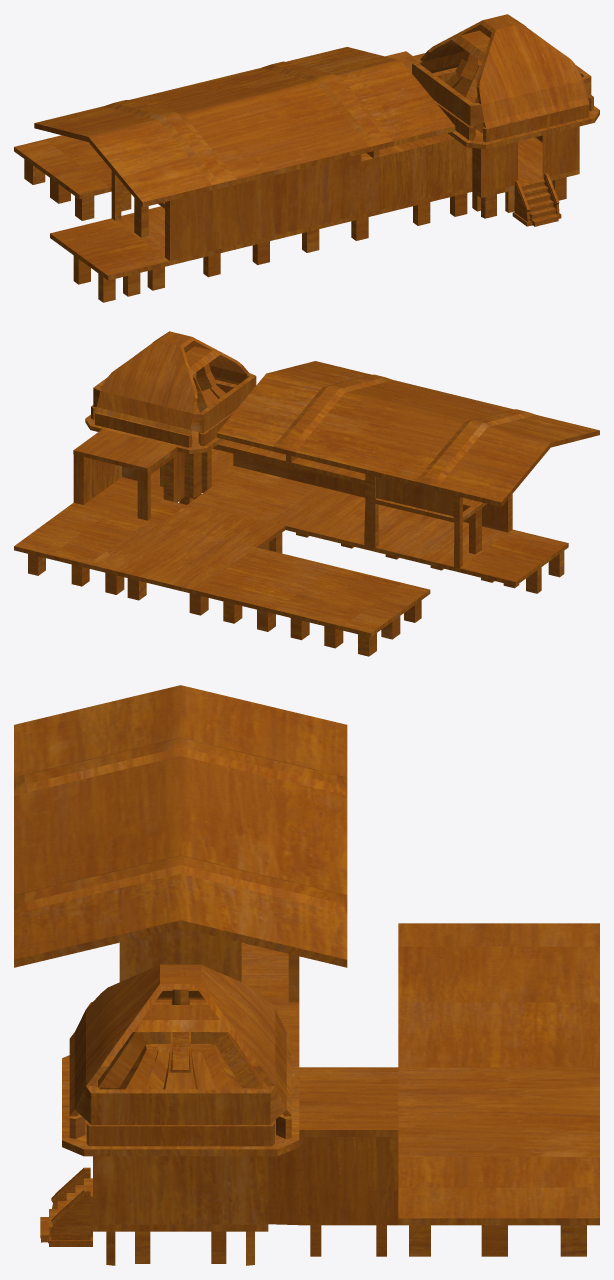
File: Restaurant.fbx
3 views of the same model, one above another, from view 1: azimuth 30°, elevation 25°; view 2: azimuth 150°, elevation 25°; view 3: azimuth 270°, elevation 25° (orthographic). The views are drawn at different scales.
Visible parts, largest first — view 1: MainSeating.002, MainSeating, Roof, Room, Connector, Deck, Stairs; view 2: MainSeating.002, Deck, MainSeating, Roof, Room, Connector, MainSeating.001; view 3: MainSeating.002, Deck, Room, Roof, MainSeating, Stairs.
Part boxes in pixels (x1,y1,x2,y2): MainSeating.002: (34,47,455,207); MainSeating: (50,149,379,302); Roof: (412,14,593,142); Room: (398,53,599,218); Connector: (379,133,472,225); Deck: (14,51,412,220); Stairs: (512,173,561,226); MainSeating.002: (217,361,599,506); Deck: (14,502,430,656); MainSeating: (269,454,568,593); Roof: (91,331,256,447); Room: (73,414,233,523); Connector: (190,439,317,521); MainSeating.001: (161,502,285,553); MainSeating.002: (14,685,347,967); Deck: (398,923,599,1256); Room: (62,1055,398,1265); Roof: (69,964,291,1146); MainSeating: (119,928,299,1057); Stairs: (40,1167,92,1246).
Bounding box in the file's own units: 9729 × 3272 × 6679.
